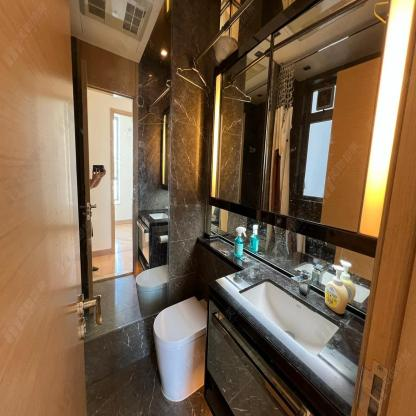Faucet: (291, 266, 313, 300)
Toilet: (152, 296, 207, 402)
Toilet Sink: (207, 266, 353, 390)
